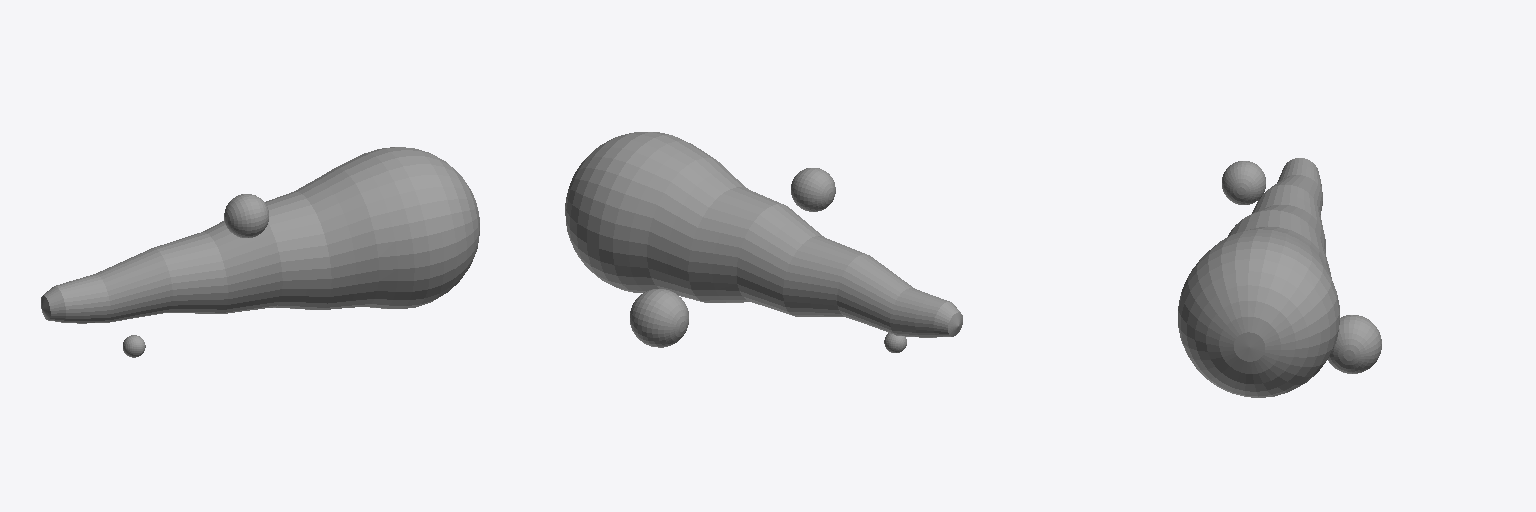
The model's file is spitball.obj.
The picture shows the model from 3 angles: view 1: azimuth 30°, elevation 25°; view 2: azimuth 150°, elevation 25°; view 3: azimuth 270°, elevation 25°; orthographic projection.
Visible parts, largest first — view 1: Sphere.003_Sphere.004; view 2: Sphere.003_Sphere.004; view 3: Sphere.003_Sphere.004.
Boxes of the visible parts, box(x1,y1,x2,y2) form: Sphere.003_Sphere.004: box(41, 147, 479, 357); Sphere.003_Sphere.004: box(565, 132, 962, 352); Sphere.003_Sphere.004: box(1178, 158, 1381, 397).
Size of the model in its own units: 0.1338 by 0.0504 by 0.0584.